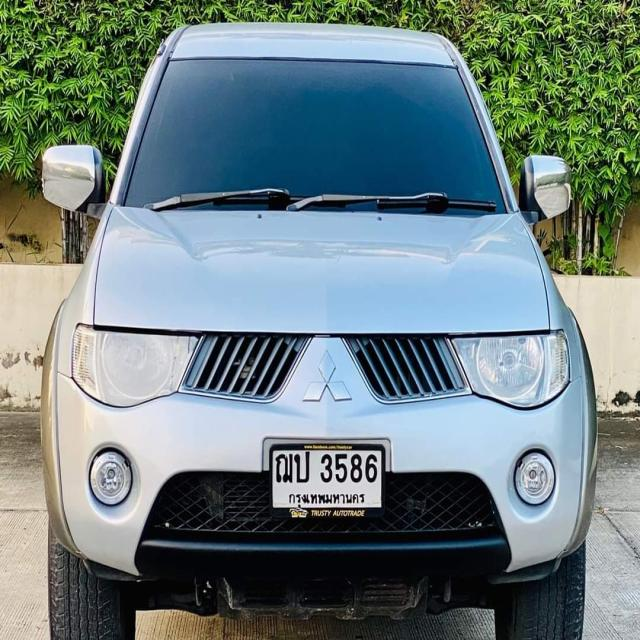license_plate: (267, 440, 386, 523)
